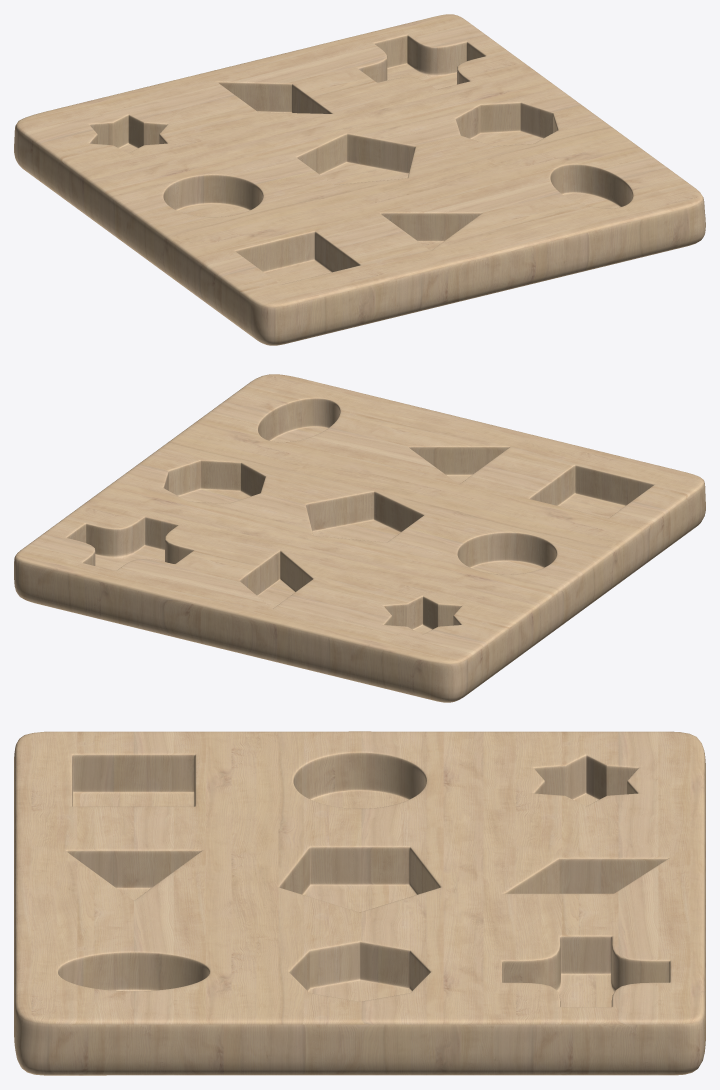
3 renders of one model, top to bottom at view 1: azimuth 30°, elevation 25°; view 2: azimuth 150°, elevation 25°; view 3: azimuth 270°, elevation 25°, orthographic. The views are drawn at different scales.
Parts seen in each view (by area): view 1: Base; view 2: Base; view 3: Base.
Boxes of the visible parts, x1,y1,x2,y2 form: Base: (14,14,705,345); Base: (14,374,705,702); Base: (14,731,705,1075).
Size of the model in its own units: 20.4 by 2 by 20.4.
1 material, 1 textured.
